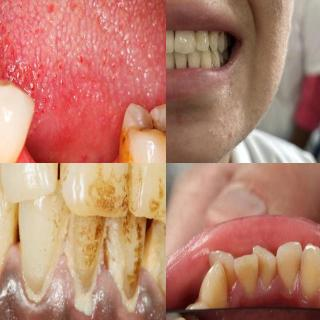Gum Swelling: (0, 246, 76, 315), (119, 264, 166, 320), (93, 266, 122, 320)
calculus: (18, 252, 60, 314), (106, 250, 142, 316), (67, 260, 101, 320)
cavities: (136, 103, 166, 151)
maligned: (254, 242, 280, 296), (204, 243, 234, 289), (234, 247, 260, 296), (166, 27, 174, 57)
plaque: (92, 220, 124, 272), (50, 205, 82, 255), (35, 163, 61, 181)
stains: (106, 214, 145, 296), (61, 163, 125, 211), (71, 212, 107, 292), (128, 163, 166, 222), (118, 127, 166, 163), (148, 222, 166, 290)
